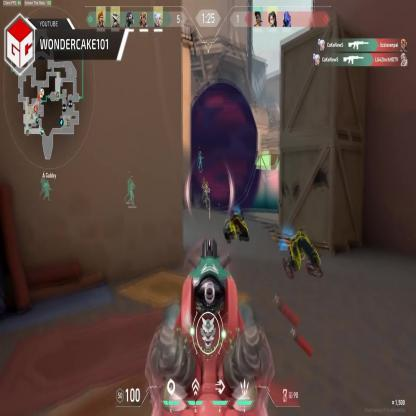enemy: (202, 178, 210, 210)
enemy_head: (202, 178, 206, 184)
